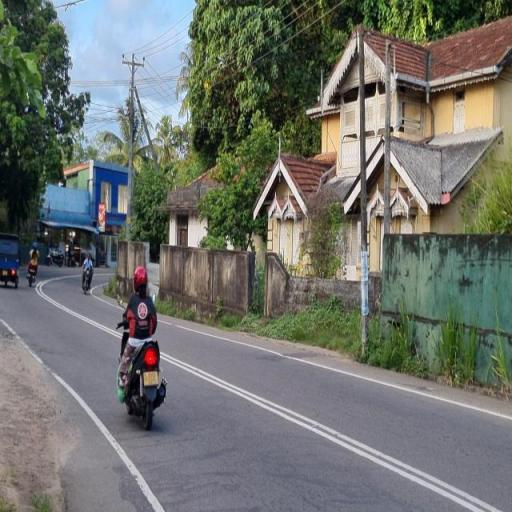double_white_line: (159, 349, 501, 512)
